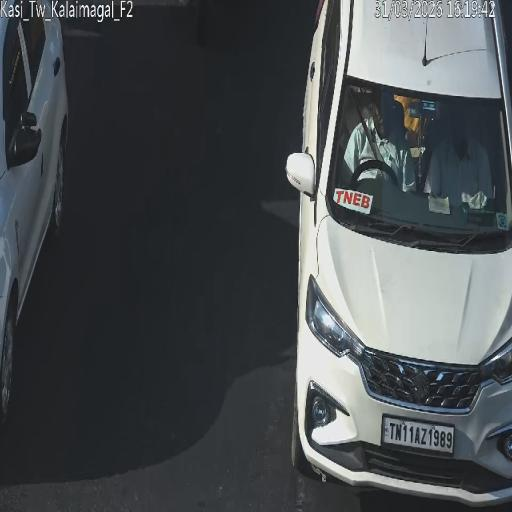person_with_seatbelt: (353, 90, 383, 168)
person_without_seatbelt: (436, 136, 486, 190)
